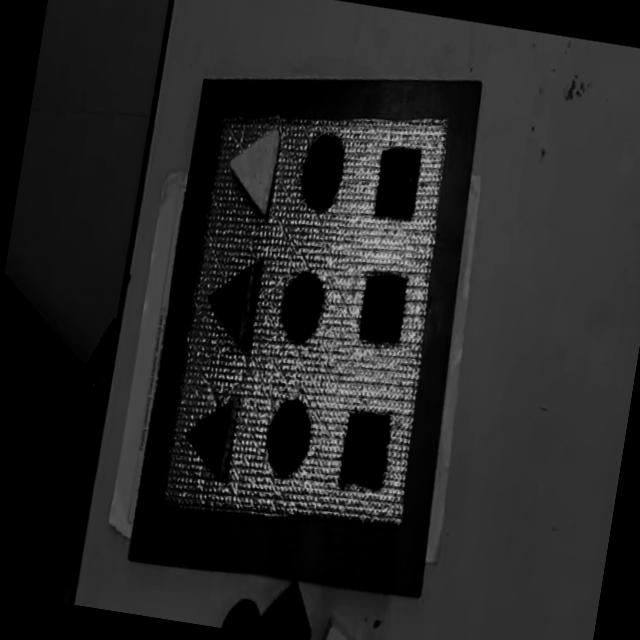bcircle: (221, 595, 264, 633)
btriangle: (187, 397, 238, 482)
mtcircle: (261, 394, 318, 482), (296, 130, 349, 212), (276, 266, 330, 346)
mtcube: (336, 406, 396, 496), (370, 142, 425, 226), (356, 270, 412, 350)
rtriangle: (209, 261, 262, 350)
wb: (158, 82, 464, 542)
ytriangle: (230, 129, 280, 217)
